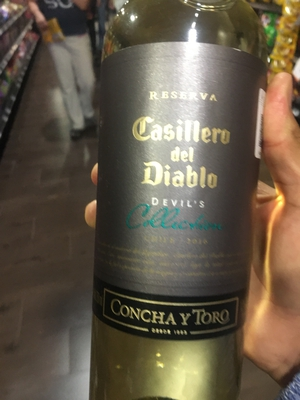casillero del diablo devils collection verde: (70, 20, 284, 389)
